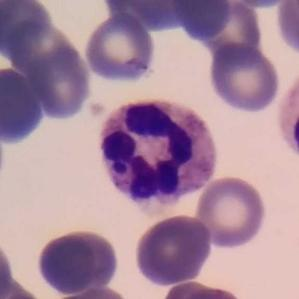Neutrophil: (91, 91, 224, 221), (273, 64, 299, 172)
RBC: (10, 22, 95, 124), (33, 226, 122, 298), (131, 212, 214, 288), (193, 173, 268, 250), (206, 42, 283, 115), (82, 12, 158, 85), (178, 1, 265, 62), (97, 0, 216, 36), (0, 63, 50, 148), (0, 0, 55, 55), (165, 281, 251, 299), (274, 0, 299, 57), (49, 284, 134, 299), (0, 234, 16, 299), (223, 0, 298, 9), (1, 289, 48, 299)
